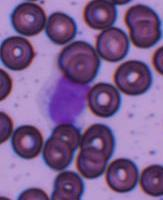M: (37, 70, 88, 125)
